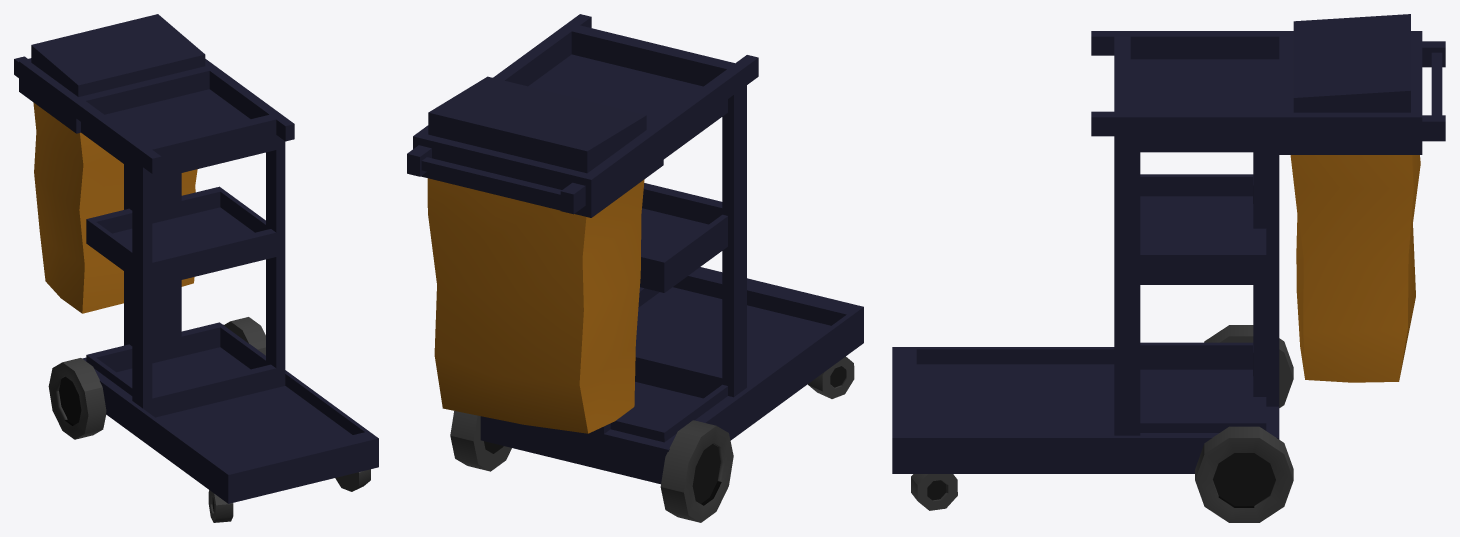
File: Janitor_Trolly_01.fbx
3 renders of one model, left to right at view 1: azimuth 30°, elevation 25°; view 2: azimuth 150°, elevation 25°; view 3: azimuth 270°, elevation 25°, orthographic. The views are drawn at different scales.
Visible parts, largest first — view 1: Janitor_Trolly; view 2: Janitor_Trolly; view 3: Janitor_Trolly.
Part boxes in pixels (left/top/right/bottom): Janitor_Trolly: left=14, top=14, right=378, bottom=522; Janitor_Trolly: left=407, top=14, right=863, bottom=522; Janitor_Trolly: left=892, top=14, right=1445, bottom=522.
Size of the model in its own units: 61.49 by 105 by 127.
